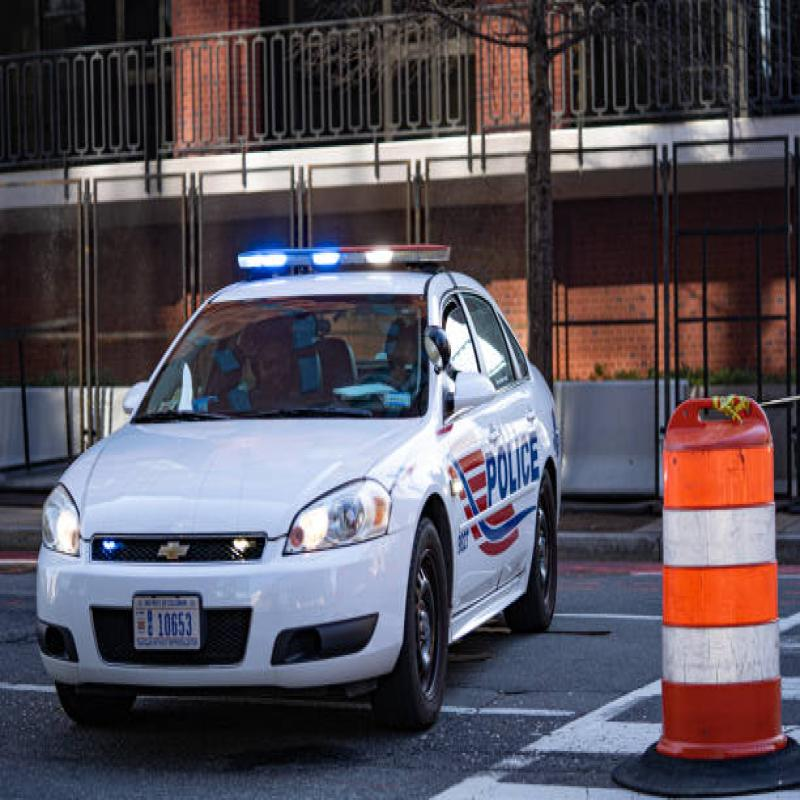AmbulanceSiren: (234, 223, 456, 287)
